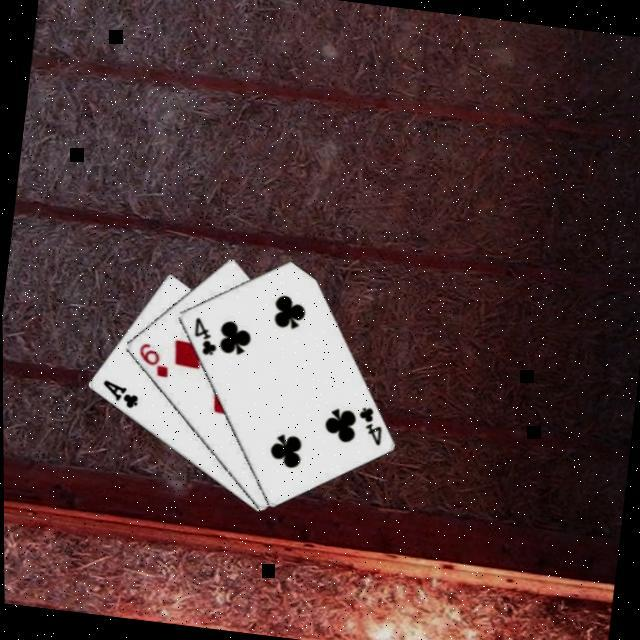4C: (351, 402, 388, 448), (188, 312, 223, 358)
6D: (132, 338, 174, 380)
AC: (97, 376, 142, 410)
